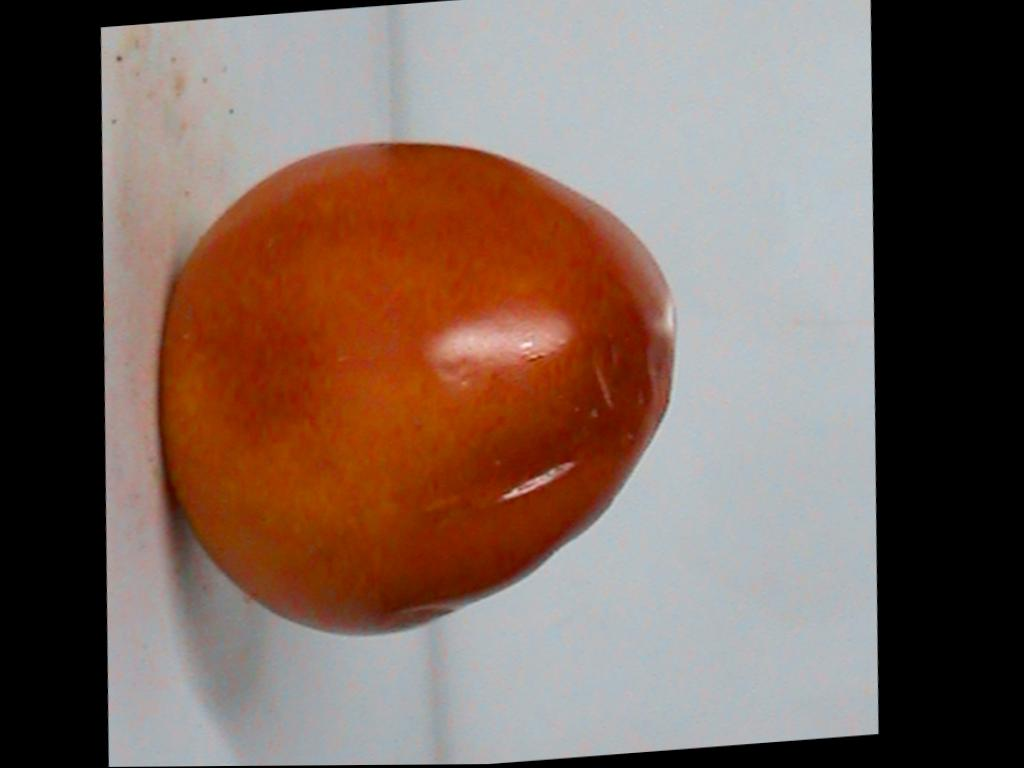bruise_discoloration: (460, 303, 672, 499), (197, 299, 320, 442)
surface_damage: (444, 460, 575, 521)
tomato: (165, 144, 673, 633)
